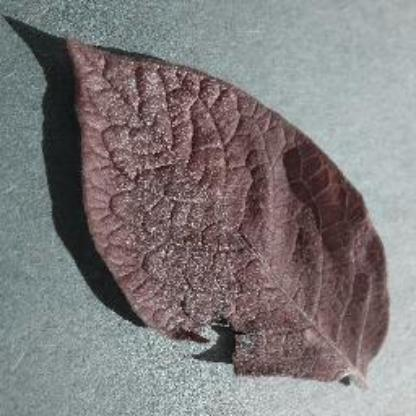Healthy-plant: (55, 36, 395, 396)
